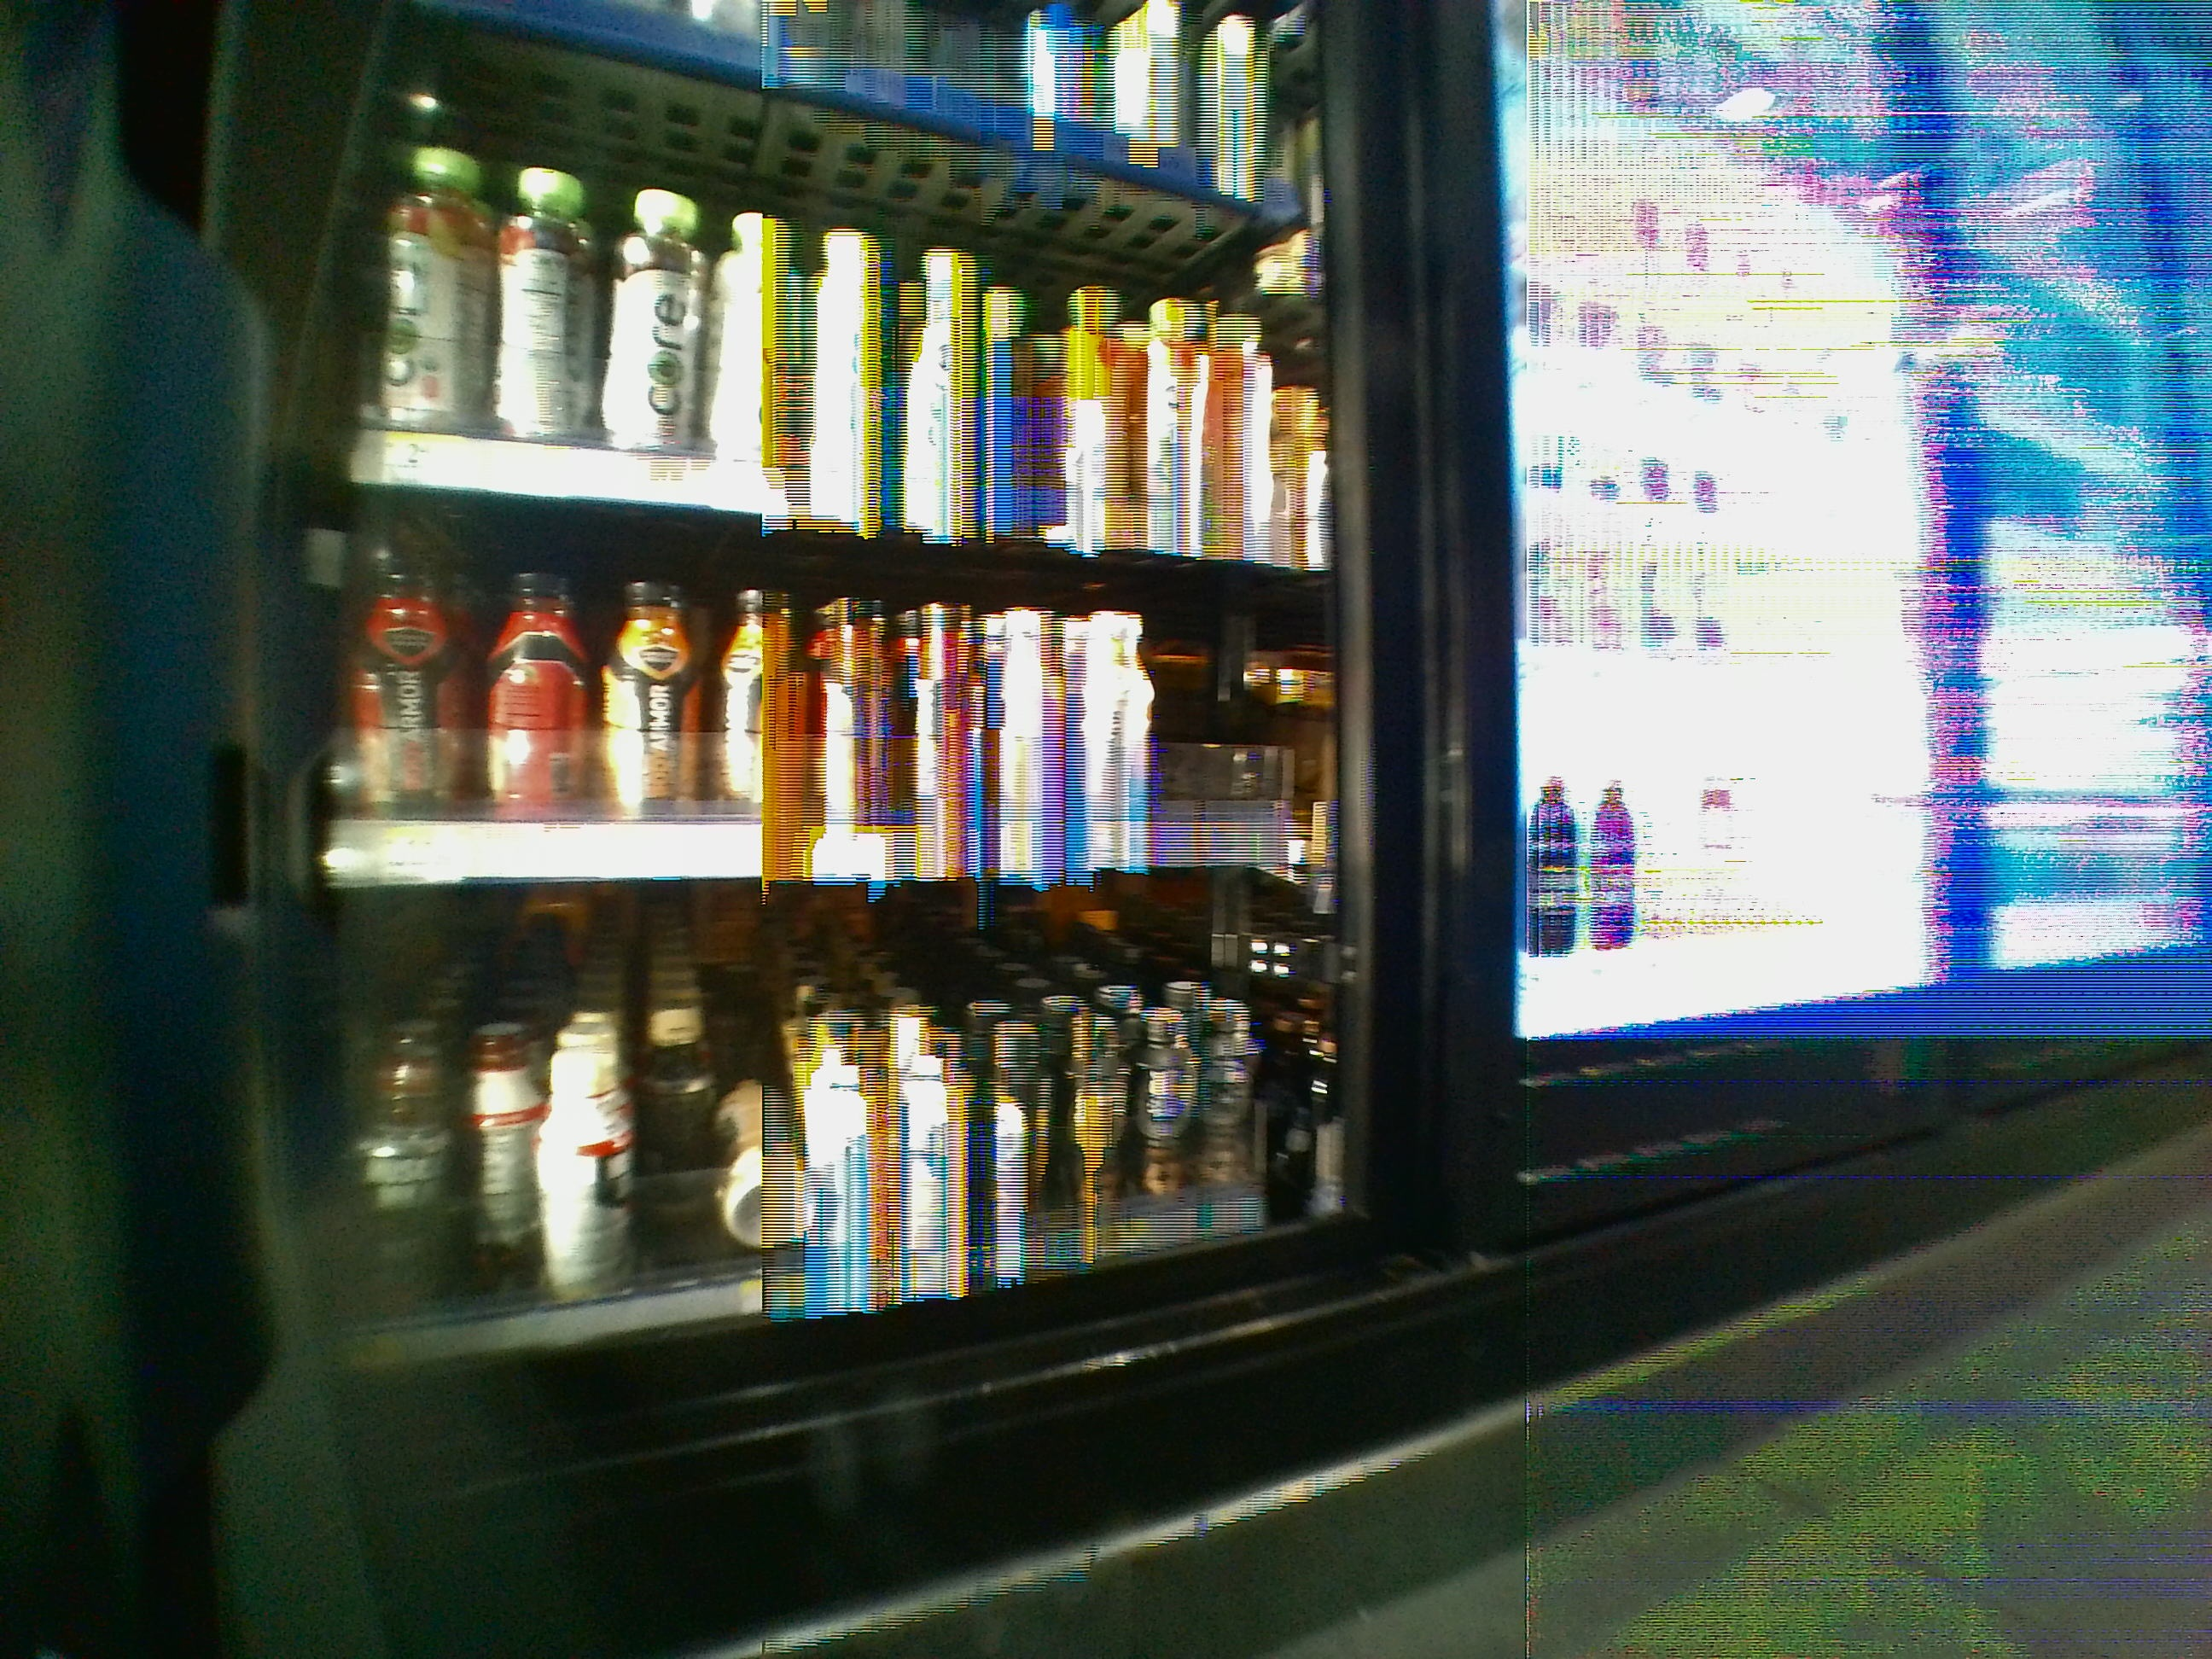shelf: (305, 882, 1355, 1309)
